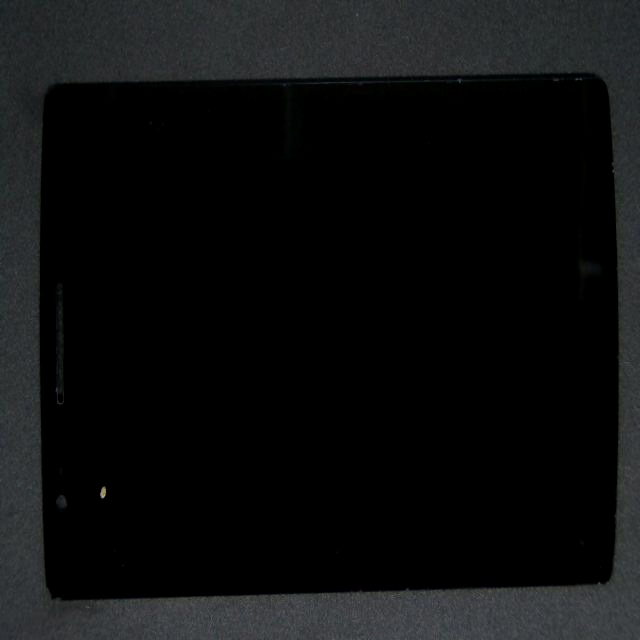stain: (12, 261, 148, 640)
